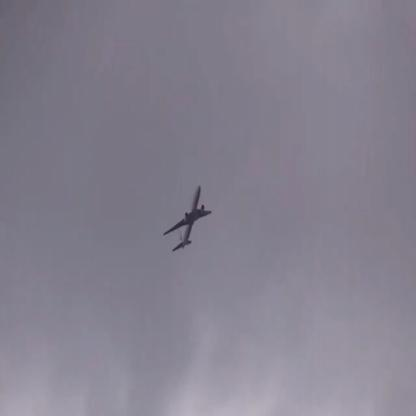CIV_Plane: (162, 183, 212, 252)
